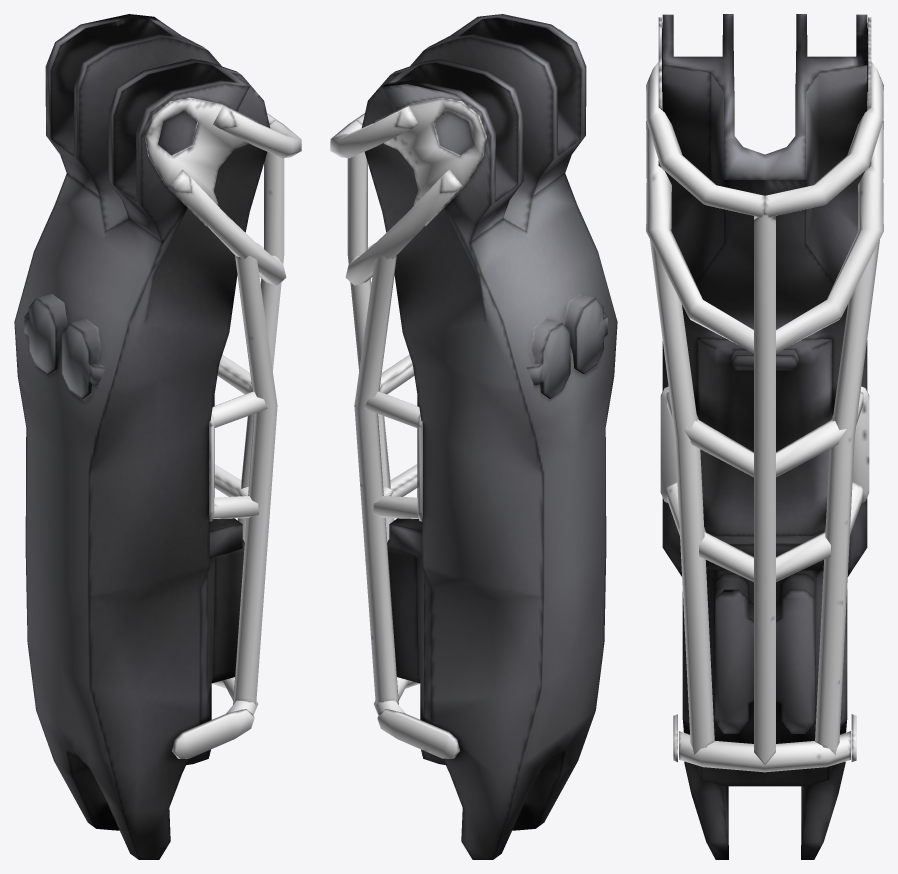
Rendered from l_lleg.dae.
3 views of the same model, side by side, from view 1: azimuth 30°, elevation 25°; view 2: azimuth 150°, elevation 25°; view 3: azimuth 270°, elevation 25° (orthographic). The views are drawn at different scales.
Visible parts, largest first — view 1: l_lleg; view 2: l_lleg; view 3: l_lleg.
Part boxes in pixels (left/top/right/bottom): l_lleg: left=14, top=14, right=301, bottom=859; l_lleg: left=330, top=14, right=617, bottom=859; l_lleg: left=646, top=14, right=883, bottom=859.
Bounding box in the file's own units: 0.1367 × 0.116 × 0.4522.
Materials: 1 (1 with a texture image).
